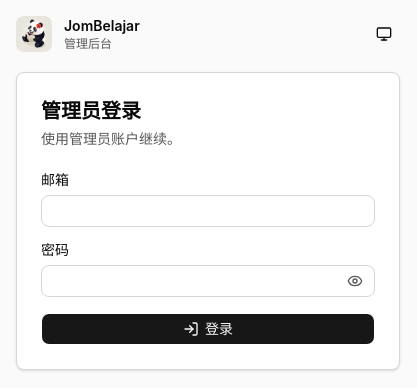
it: Login › exposes the validated login fields and password visibility control
The width and height of the screenshot is (417, 388).
Click the button named "显示密码" at (355, 281), box [335,265,375,297]
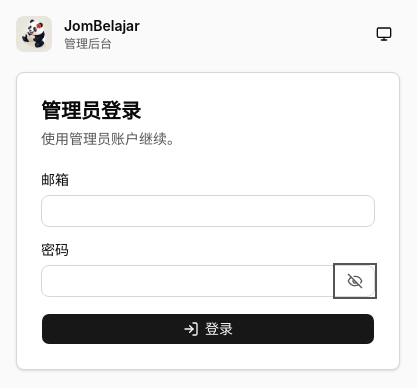
Expected: the button named "隐藏密码" is shown, [335,265,375,297]
